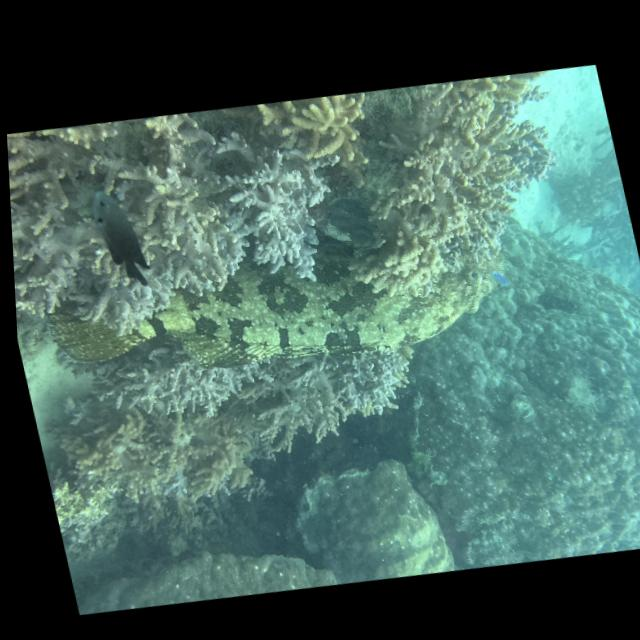Groupers: (27, 182, 520, 419)
